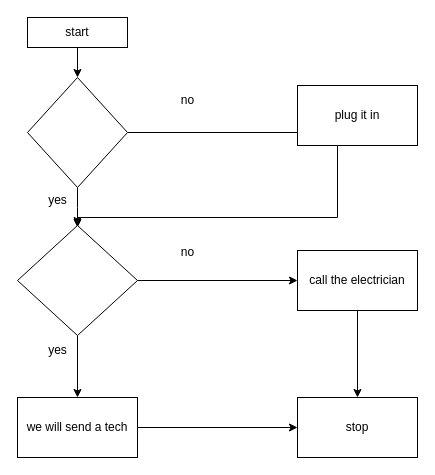
This 435x475 diagram has some shape labels left out. The centre of each missing label's shape, as x and y in pixels:
is there light in the room?: the point at 77,280
is TV plugged in?: the point at 77,132
